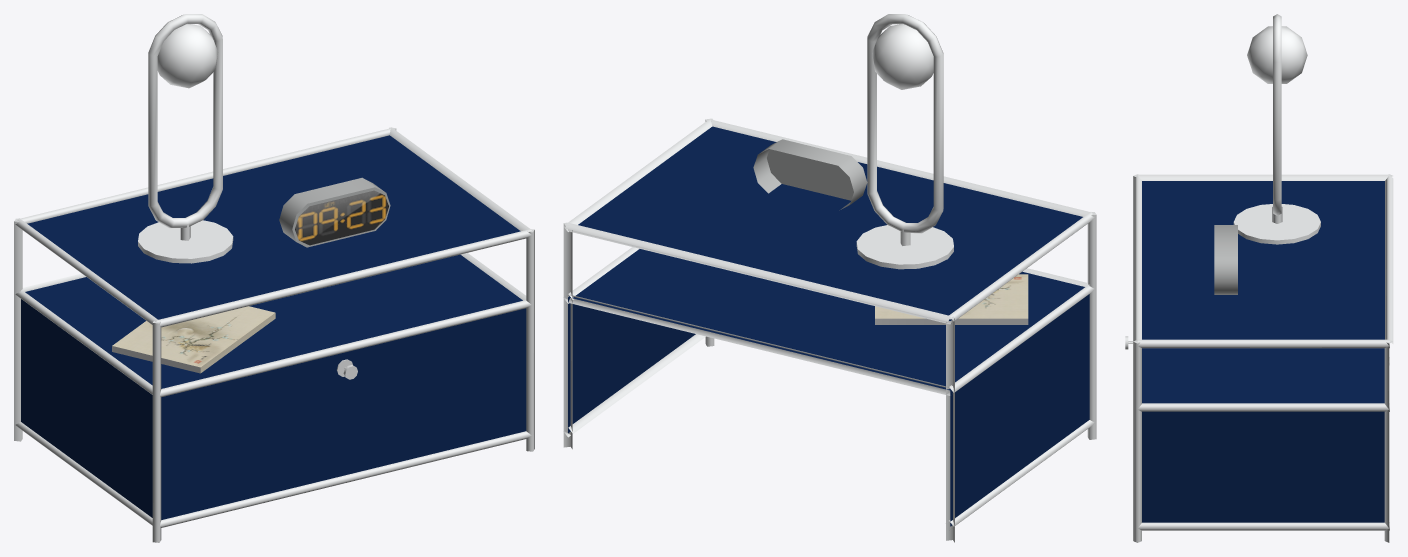
File: M_BRchuangtouzhuo04.FBX
3 views of the same model, side by side, from view 1: azimuth 30°, elevation 25°; view 2: azimuth 150°, elevation 25°; view 3: azimuth 270°, elevation 25° (orthographic). The views are drawn at different scales.
Visible parts, largest first — view 1: M_BRchuangtouzhuo04_01, M_BRchuangtouzhuo04_02, M_BRchuangtouzhuo04_03, M_BRchuangtouzhuo04_04; view 2: M_BRchuangtouzhuo04_01, M_BRchuangtouzhuo04_02, M_BRchuangtouzhuo04_04, M_BRchuangtouzhuo04_03; view 3: M_BRchuangtouzhuo04_01, M_BRchuangtouzhuo04_02, M_BRchuangtouzhuo04_04.
Boxes of the visible parts, x1,y1,x2,y2 form: M_BRchuangtouzhuo04_01: [21, 135, 526, 519]; M_BRchuangtouzhuo04_02: [14, 14, 534, 542]; M_BRchuangtouzhuo04_03: [112, 190, 388, 373]; M_BRchuangtouzhuo04_04: [157, 24, 218, 88]; M_BRchuangtouzhuo04_01: [568, 126, 1089, 526]; M_BRchuangtouzhuo04_02: [563, 14, 1096, 542]; M_BRchuangtouzhuo04_04: [872, 24, 933, 89]; M_BRchuangtouzhuo04_03: [875, 274, 1028, 324]; M_BRchuangtouzhuo04_01: [1142, 181, 1384, 522]; M_BRchuangtouzhuo04_02: [1125, 14, 1393, 542]; M_BRchuangtouzhuo04_04: [1247, 26, 1307, 83].
Bounding box in the file's own units: 1.26 × 1.4 × 0.8409.
